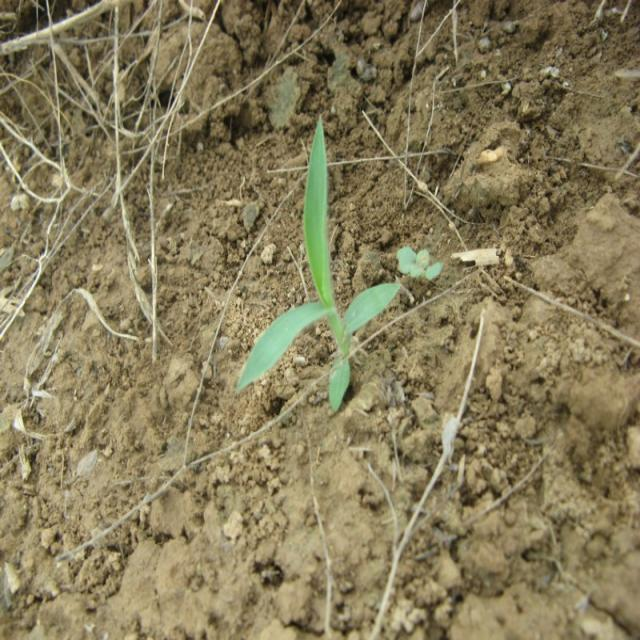bg: (235, 117, 409, 410)
